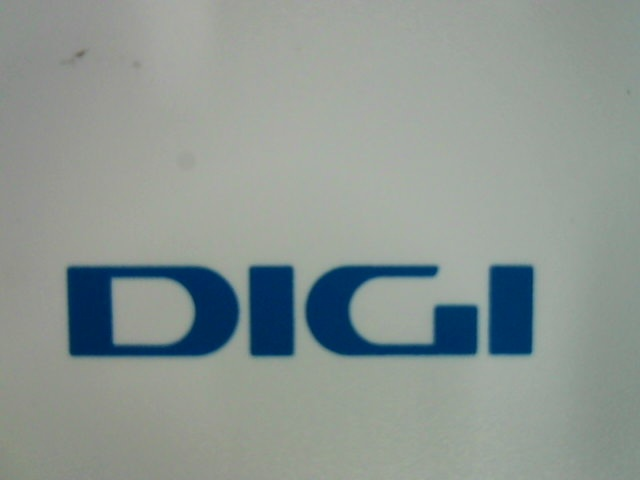BL_DIGI: (46, 237, 558, 367)
